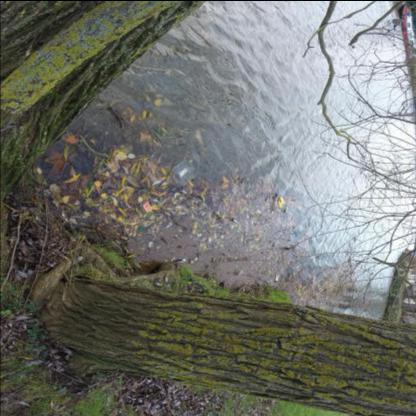Bottle: (140, 226, 144, 230)
Plastic container: (173, 160, 197, 186)
Unlabeled litter: (143, 200, 152, 211), (235, 268, 243, 275), (274, 274, 276, 282)
